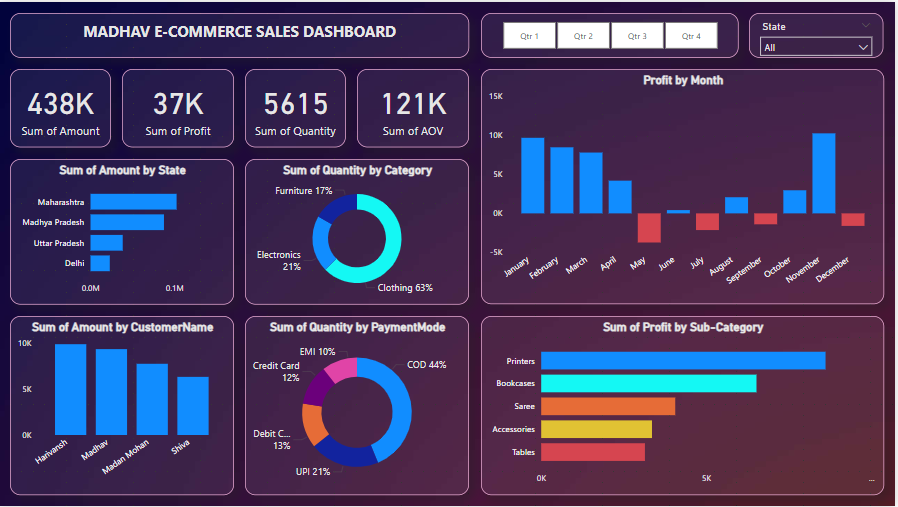

This screenshot's page, from the dashboard's own definition file:
{"tool":"powerbi","page":{"name":"Page 1","canvas":[1280,720],"ordinal":0},"visuals":[{"type":"columnChart","title":"Profit by Month","fields":{"Y":["Details.Profit"],"Category":["Orders.Order Date.Variation.Date Hierarchy.Month"]},"box":[688,96,576,336],"z":0},{"type":"textbox","box":[16,16,656,64],"z":1000},{"type":"barChart","fields":{"Category":["Details.Sub-Category"],"Y":["Details.Profit"]},"box":[688,448,576,256],"z":2000},{"type":"donutChart","fields":{"Category":["Details.Category"],"Y":["Details.Quantity"]},"box":[352,224,320,208],"z":3000},{"type":"donutChart","fields":{"Category":["Details.PaymentMode"],"Y":["Details.Quantity"]},"box":[352,448,320,256],"z":4000},{"type":"card","fields":{"Values":["Details.Quantity"]},"box":[352,96,144,112],"z":5000},{"type":"card","fields":{"Values":["Details.Profit"]},"box":[176,96,160,112],"z":6000},{"type":"card","fields":{"Values":["Details.Amount"]},"box":[16,96,144,112],"z":7000},{"type":"card","fields":{"Values":["Details.AOV"]},"box":[512,96,160,112],"z":8000},{"type":"barChart","fields":{"Category":["Orders.State"],"Y":["Details.Amount"]},"box":[16,224,320,208],"z":9000},{"type":"columnChart","fields":{"Category":["Orders.CustomerName"],"Y":["Details.Amount"]},"box":[16,448,320,256],"z":10000},{"type":"slicer","fields":{"Values":["Orders.Order Date.Variation.Date Hierarchy.Quarter"]},"box":[688,16,368,64],"z":11000},{"type":"slicer","fields":{"Values":["Orders.State"]},"box":[1072,16,192,64],"z":12000}]}

Visuals, with their boxes in screenshot pixels (x1, y1, x2, y2), scaled from the page's 1280x720 canvas onto the 898x507 screenshot:
"Profit by Month" columnChart: Rect(483, 68, 887, 304)
textbox: Rect(11, 11, 471, 56)
barChart - Details.Sub-Category x Details.Profit: Rect(483, 315, 887, 496)
donutChart - Details.Category x Details.Quantity: Rect(247, 158, 471, 304)
donutChart - Details.PaymentMode x Details.Quantity: Rect(247, 315, 471, 496)
card - Details.Quantity: Rect(247, 68, 348, 146)
card - Details.Profit: Rect(123, 68, 236, 146)
card - Details.Amount: Rect(11, 68, 112, 146)
card - Details.AOV: Rect(359, 68, 471, 146)
barChart - Orders.State x Details.Amount: Rect(11, 158, 236, 304)
columnChart - Orders.CustomerName x Details.Amount: Rect(11, 315, 236, 496)
slicer - Orders.Order Date.Variation.Date Hierarchy.Quarter: Rect(483, 11, 741, 56)
slicer - Orders.State: Rect(752, 11, 887, 56)
